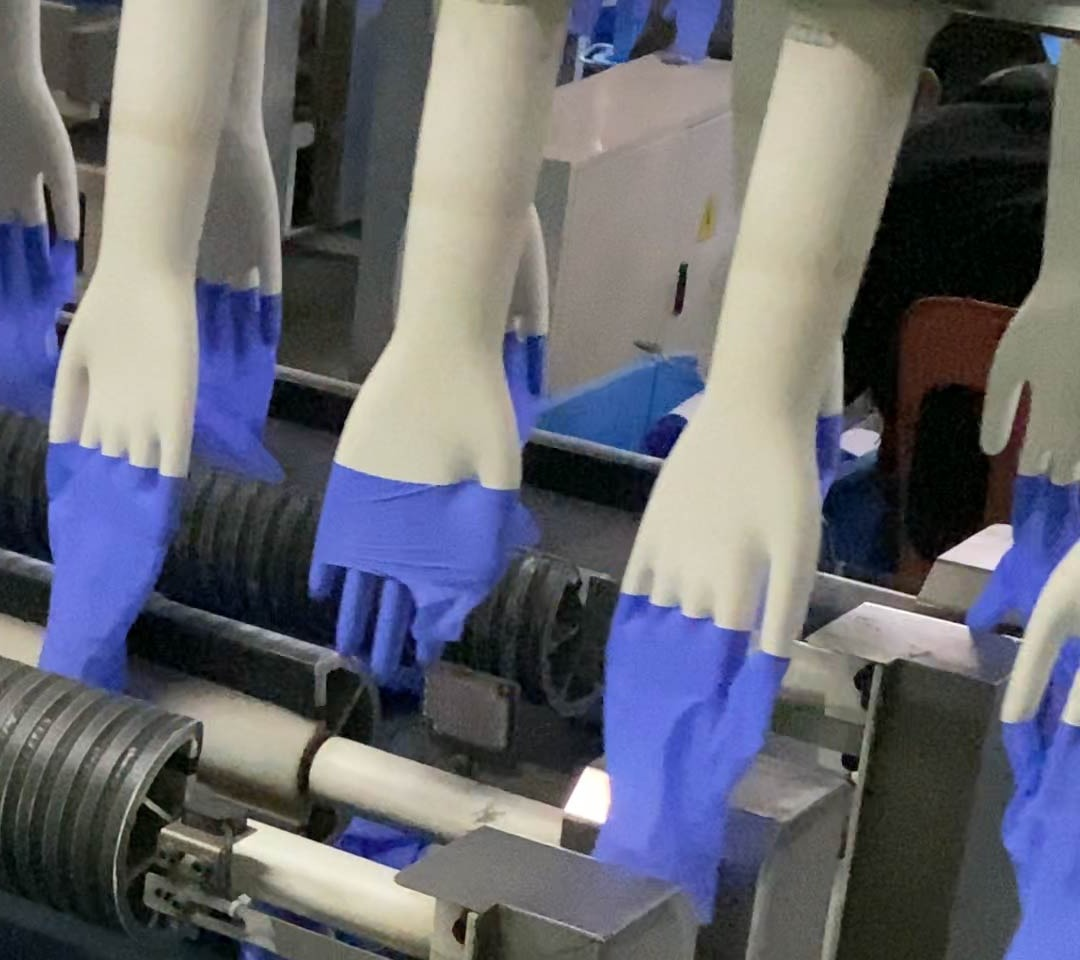glove: (590, 588, 791, 937), (300, 462, 532, 672), (34, 438, 184, 697)
